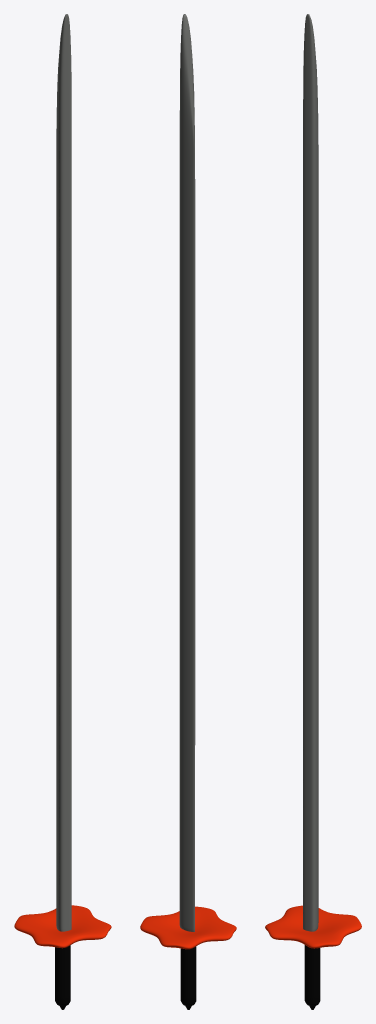
File: sword.fbx
The picture shows the model from 3 angles, left to right: view 1: azimuth 30°, elevation 25°; view 2: azimuth 210°, elevation 25°; view 3: azimuth 330°, elevation 25°; orthographic projection.
Visible parts, largest first — view 1: Cube.001, Plane, Plane.002; view 2: Cube.001, Plane, Plane.002; view 3: Cube.001, Plane, Plane.002.
Part boxes in pixels (left/top/right/bottom): Cube.001: left=56, top=14, right=71, bottom=931; Plane: left=14, top=905, right=111, bottom=948; Plane.002: left=55, top=945, right=70, bottom=1009; Cube.001: left=179, top=14, right=195, bottom=931; Plane: left=140, top=906, right=236, bottom=949; Plane.002: left=180, top=946, right=196, bottom=1009; Cube.001: left=303, top=14, right=318, bottom=931; Plane: left=265, top=905, right=361, bottom=948; Plane.002: left=304, top=945, right=320, bottom=1009.
Bounding box in the file's own units: 8.4 × 108 × 8.26.
